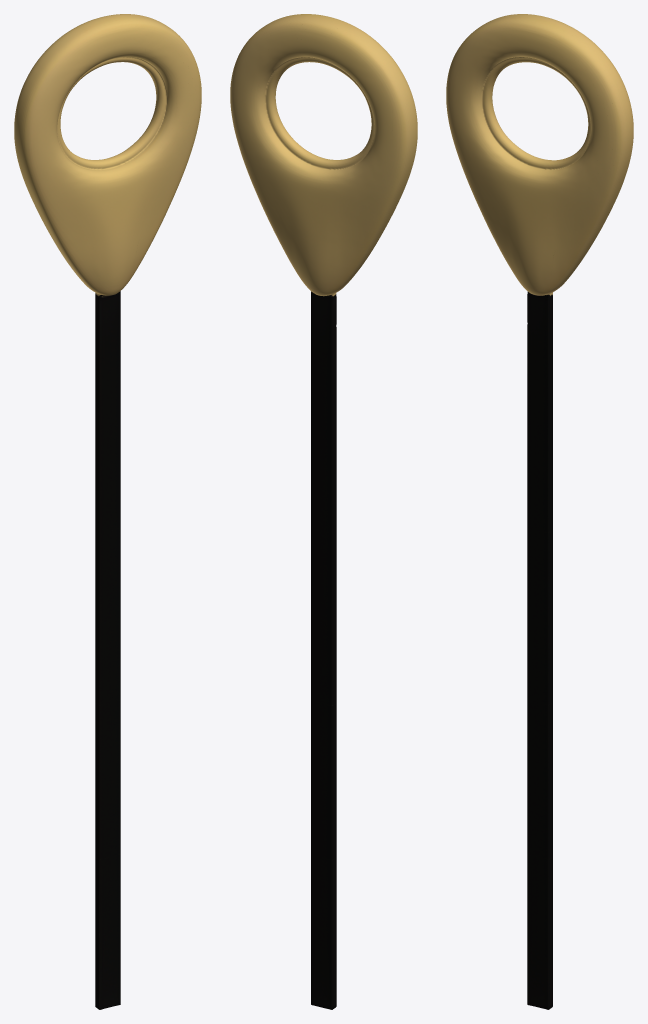
The model's file is alerta.glb.
3 renders of one model, left to right at view 1: azimuth 30°, elevation 25°; view 2: azimuth 150°, elevation 25°; view 3: azimuth 330°, elevation 25°, orthographic.
Visible parts, largest first — view 1: texture_pbr_v128; view 2: texture_pbr_v128; view 3: texture_pbr_v128.
Part boxes in pixels (x1,y1,x2,y2): texture_pbr_v128: [14, 14, 201, 1009]; texture_pbr_v128: [230, 14, 417, 1009]; texture_pbr_v128: [446, 14, 633, 1009].
Size of the model in its own units: 0.1149 by 0.6 by 0.0236.
Materials: 1 (1 with a texture image).
